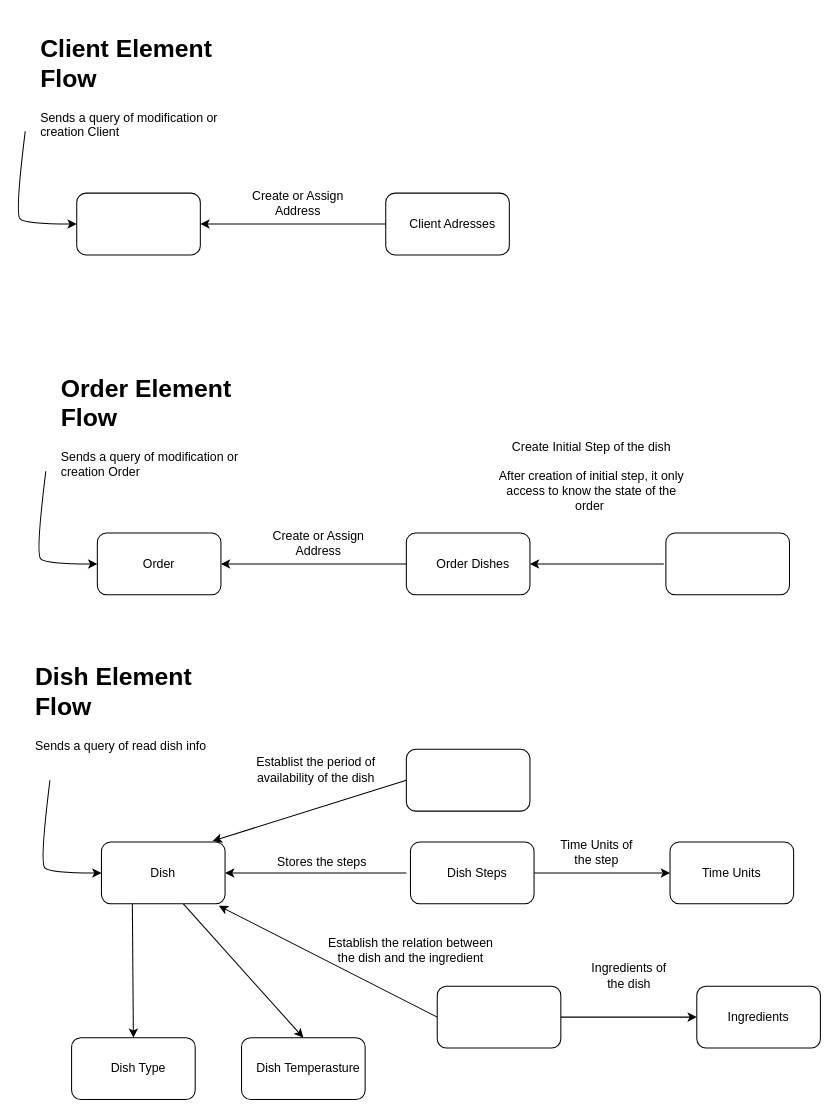
Some shapes in this 838 by 1118 pixel diagram are drawn without their labels. The shapes that lost their labels are listed below. From the top down, each one's box as (x1, y1, x2, y2) in pixels, then its label:
(76, 192, 200, 255): Client
(665, 532, 789, 595): Order Track
(405, 748, 530, 811): Dish Available
(436, 985, 561, 1048): Dish Ingredients
